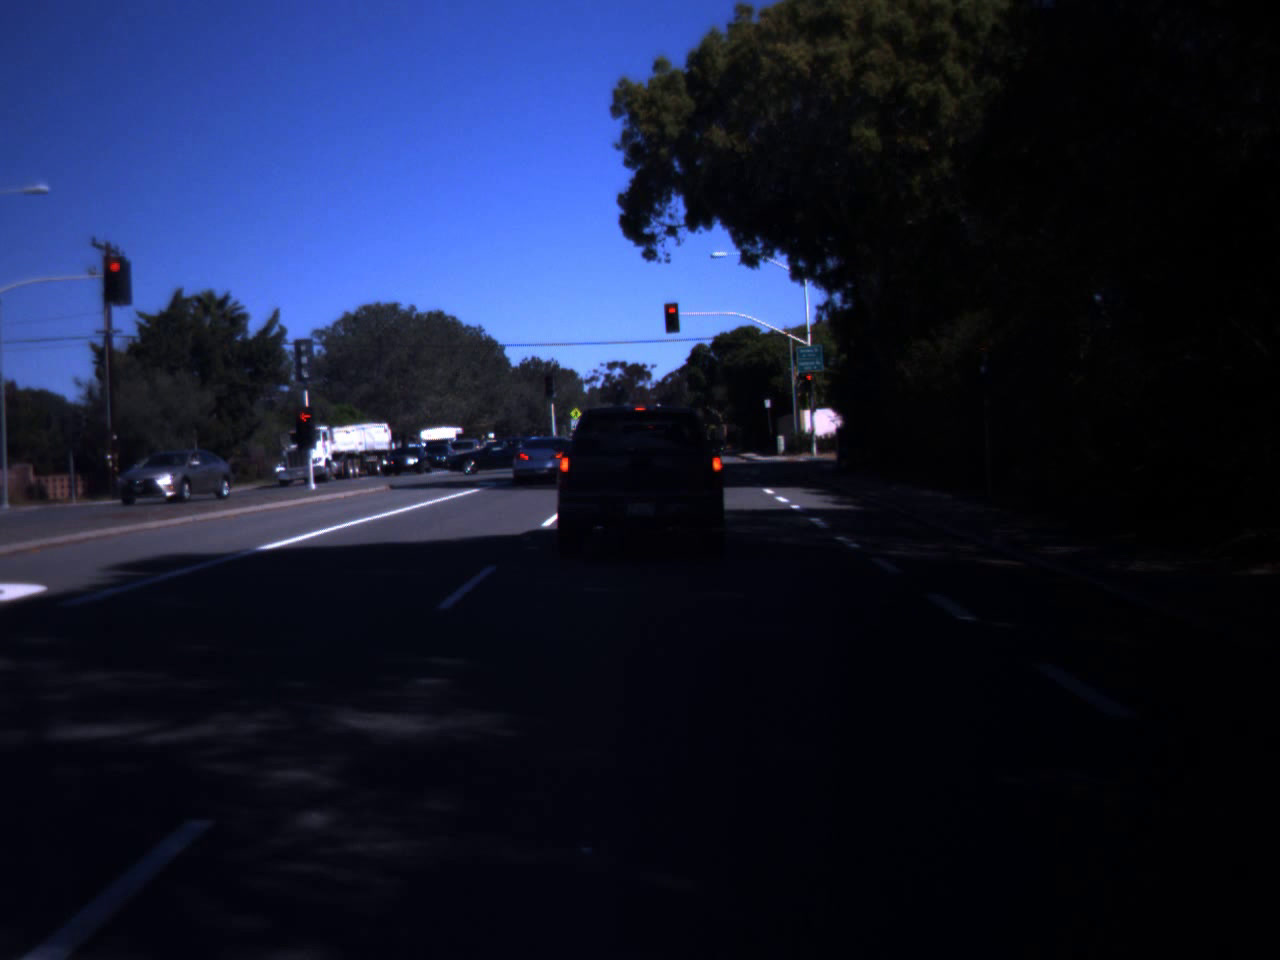stop: (103, 259, 127, 290), (294, 410, 318, 441), (663, 306, 681, 324)
